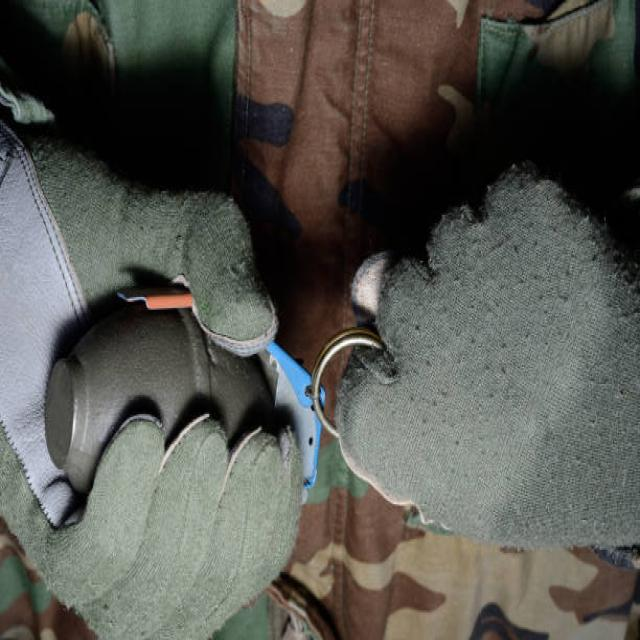grenade: (45, 281, 395, 501)
